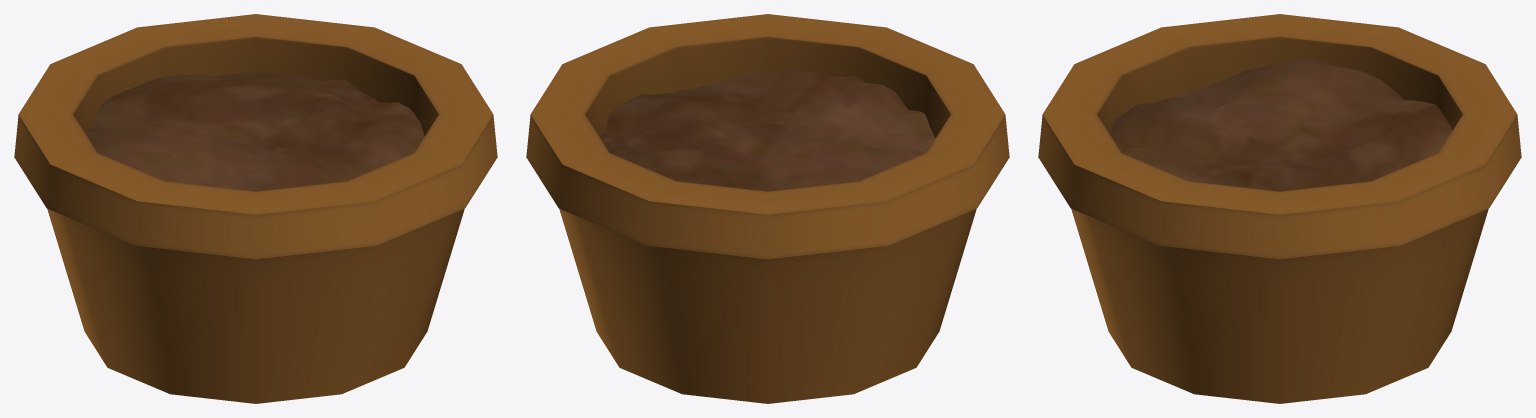
The model's file is pot soil.fbx.
3 views of the same model, side by side, from view 1: azimuth 30°, elevation 25°; view 2: azimuth 150°, elevation 25°; view 3: azimuth 270°, elevation 25° (orthographic).
Visible parts, largest first — view 1: pot, soil_surface; view 2: pot, soil_surface; view 3: pot, soil_surface.
Part boxes in pixels (bbox=[...]): pot: bbox=[14, 14, 497, 403]; soil_surface: bbox=[84, 72, 424, 191]; pot: bbox=[526, 14, 1009, 403]; soil_surface: bbox=[599, 70, 935, 191]; pot: bbox=[1038, 14, 1521, 403]; soil_surface: bbox=[1109, 60, 1452, 191].
Bounding box in the file's own units: 13.71 × 6.8 × 13.71.
Materials: 1 (1 with a texture image).
